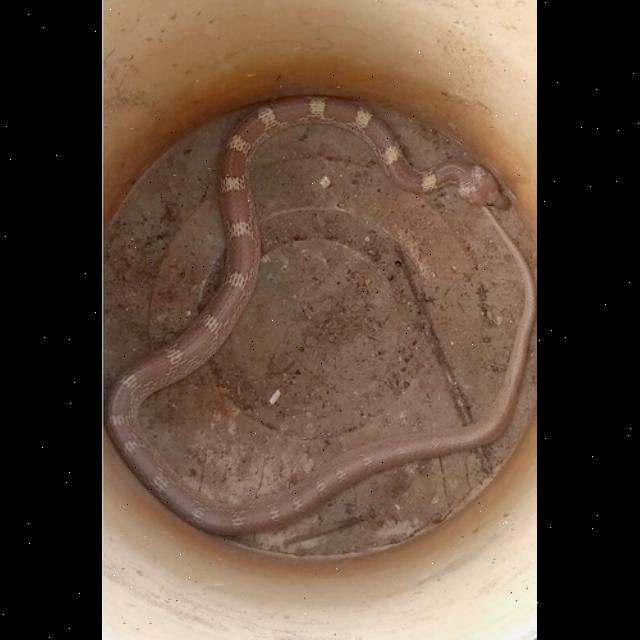snake: (106, 88, 532, 546)
